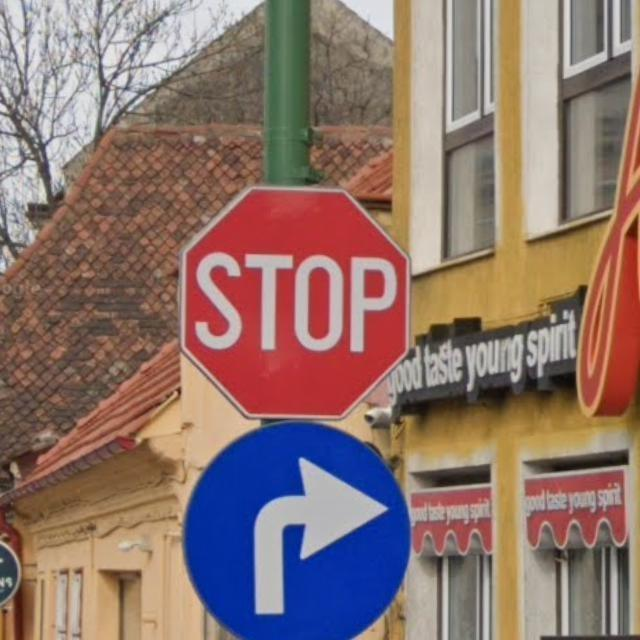prio_stop: (177, 187, 412, 418)
